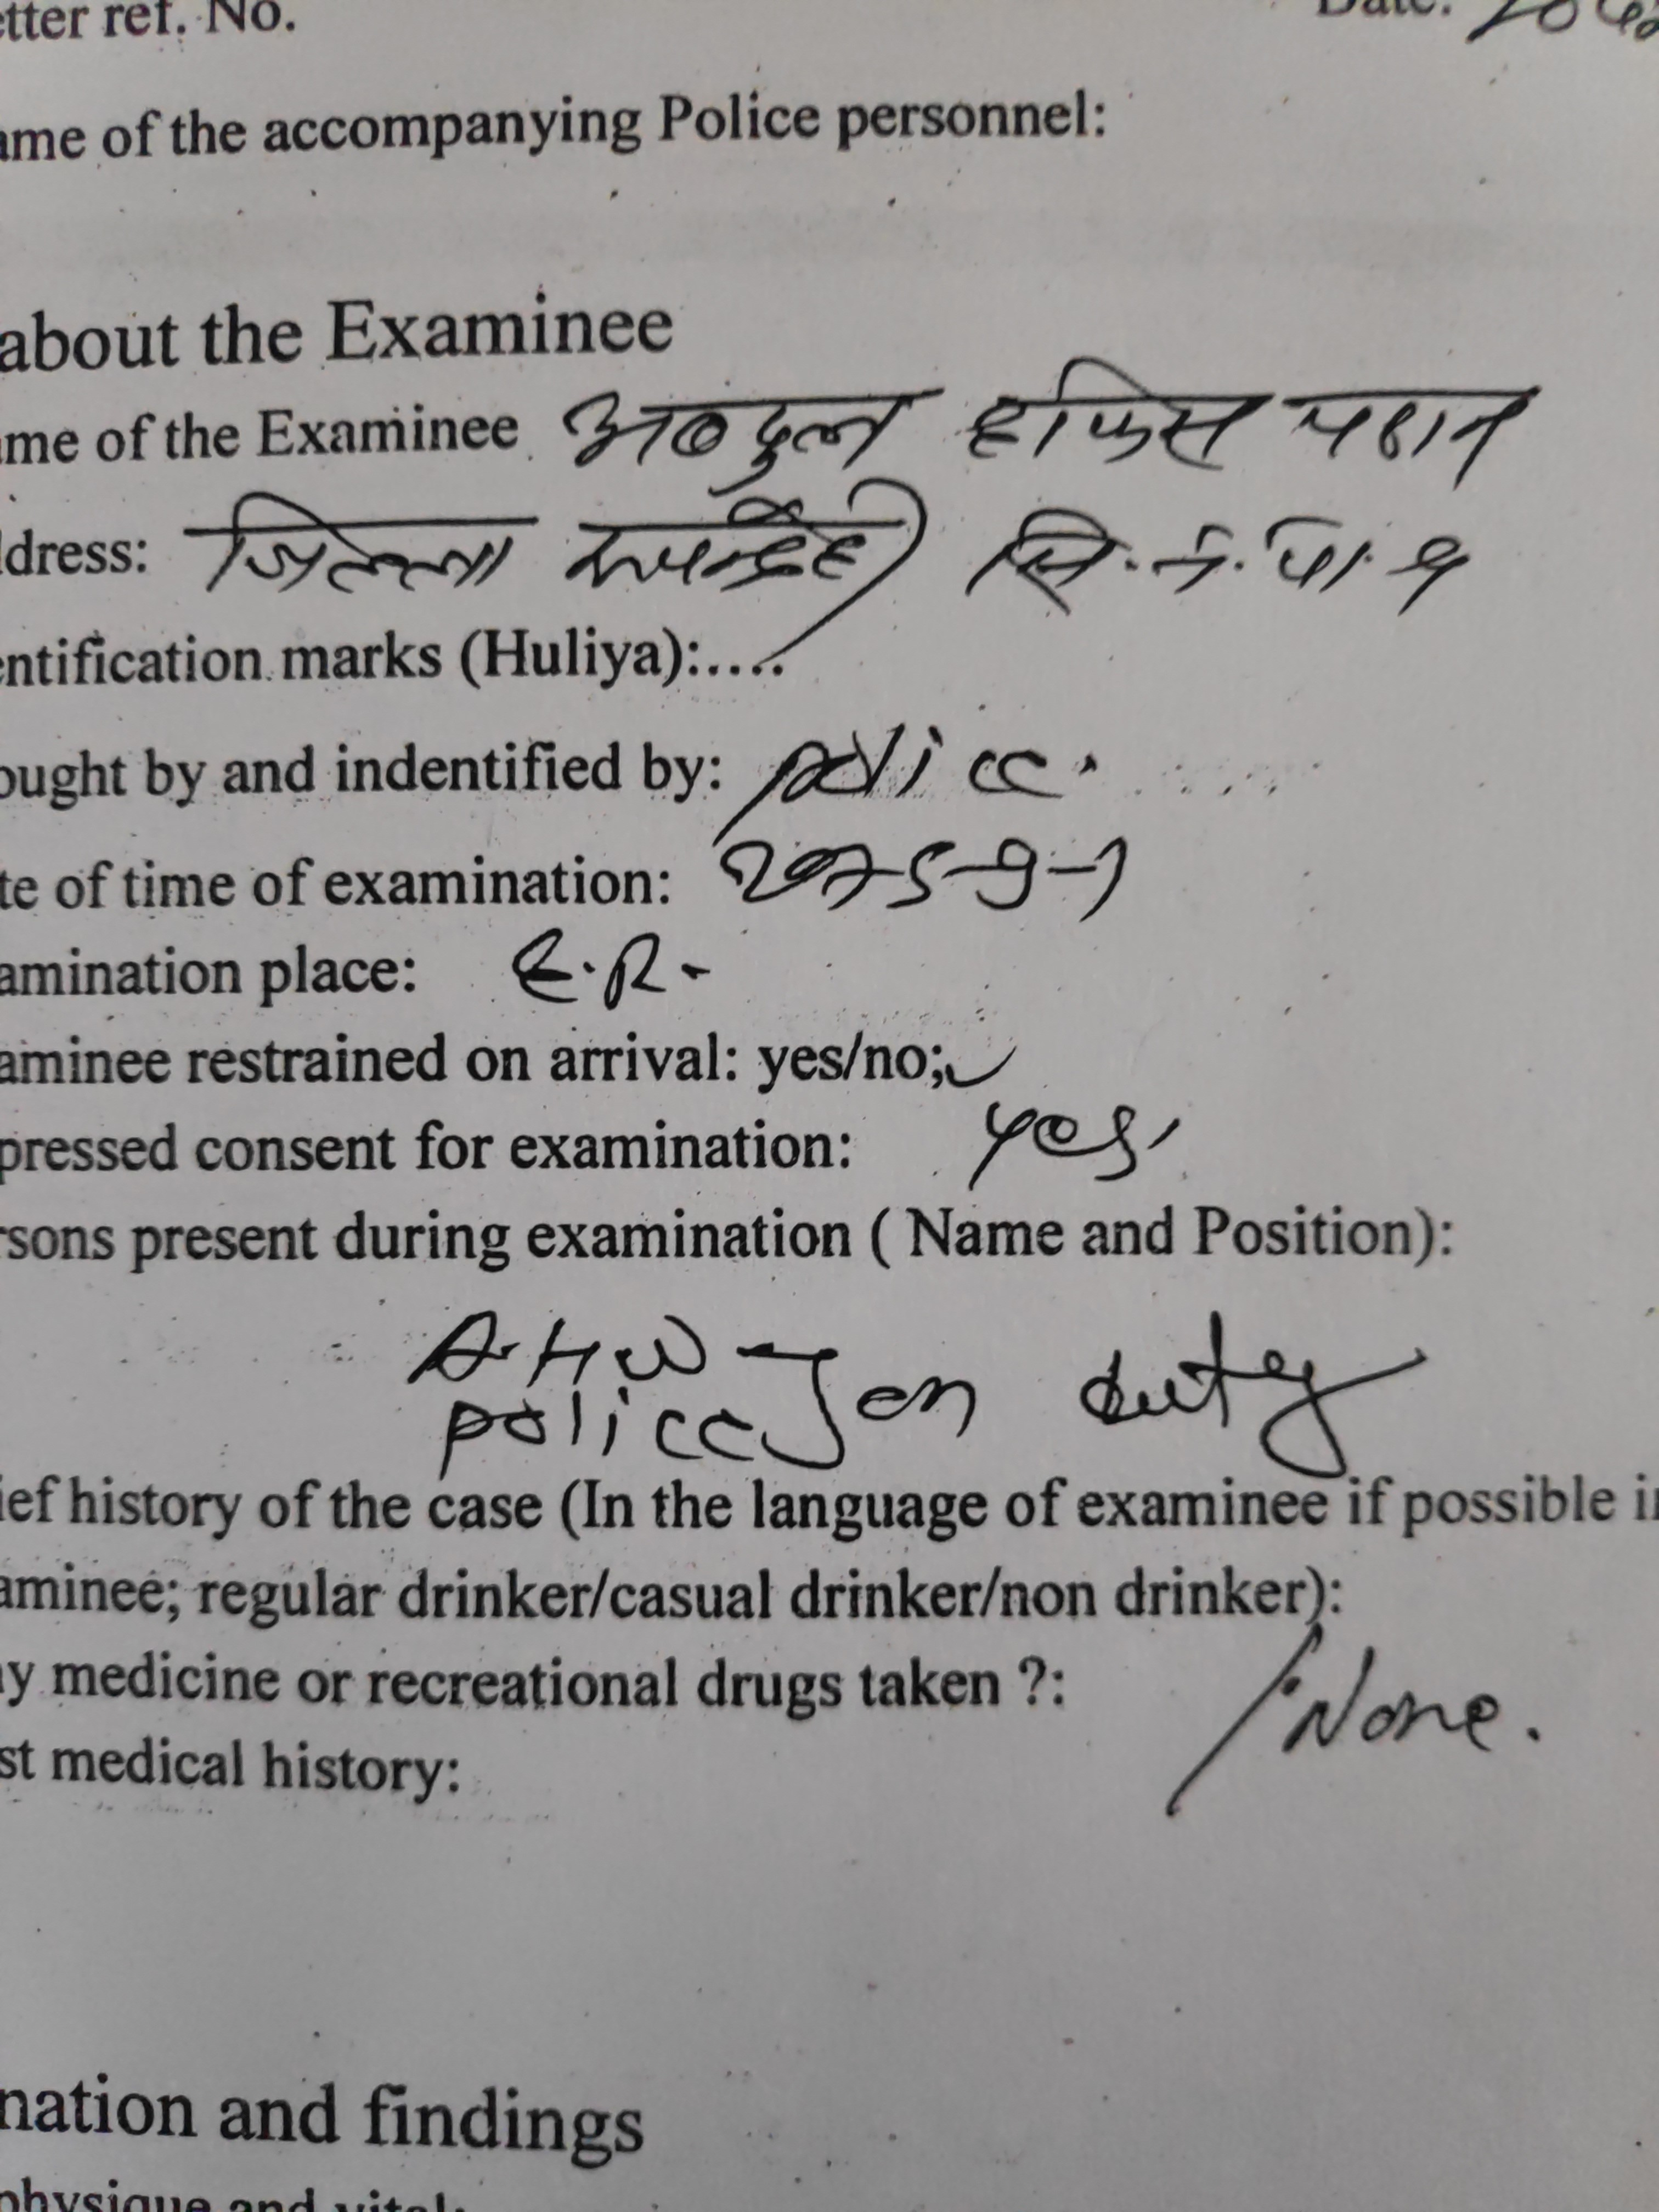text: (972, 496, 1471, 615), (547, 482, 931, 603), (558, 366, 918, 486), (960, 354, 1274, 482), (192, 482, 525, 603), (1279, 366, 1544, 482)
